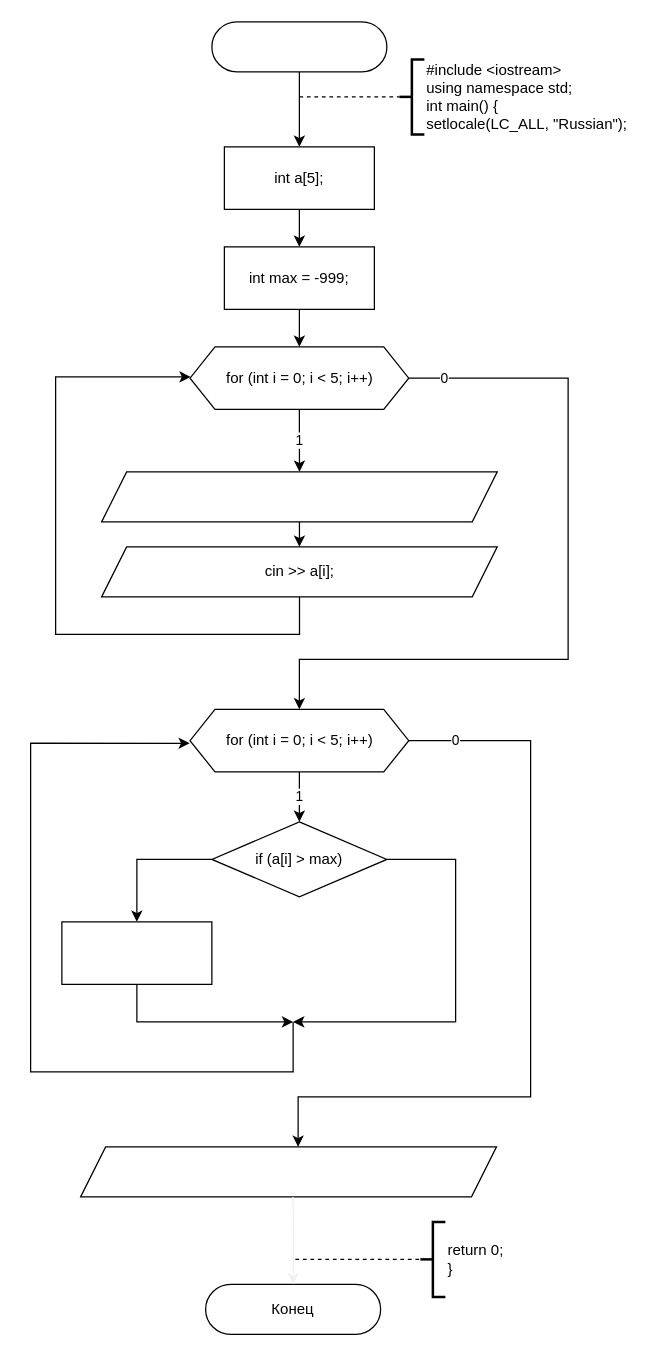
Image size: 650x1356. Some labels were removed from this diagram. The box of each missing label's shape, as (x1, y1, x2, y2) in pixels:
cout << "Введите элемент массива: ";: (100, 471, 497, 522)
cout << "Максимальный элемент массива: " << max << endl;: (79, 1146, 496, 1197)
max = a[i];: (61, 921, 212, 984)
Запуск: (211, 21, 387, 72)
